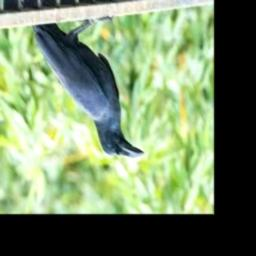Crow: (23, 0, 145, 159)
